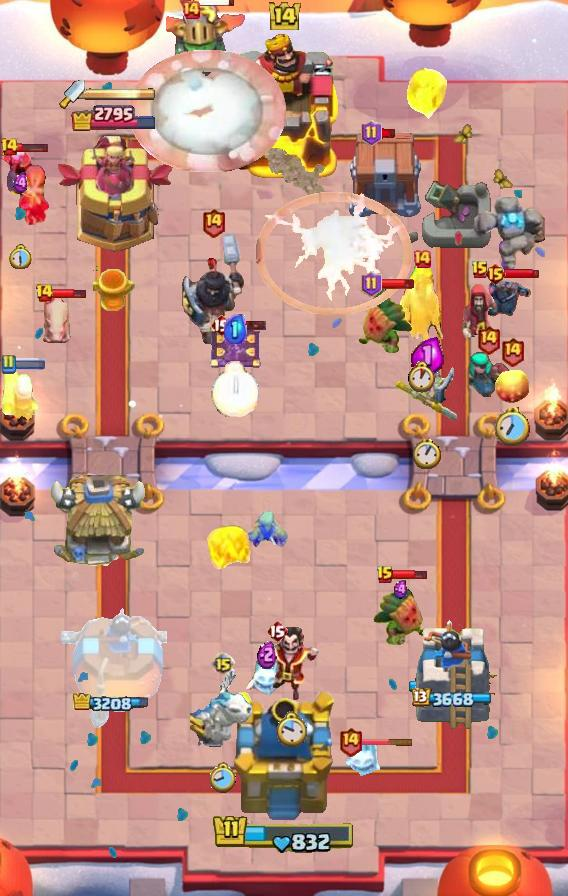bar: (52, 132, 176, 256)
barbarian-evolution: (256, 192, 412, 315)
bat: (245, 655, 289, 701), (343, 739, 387, 779)
battle-ram: (483, 270, 533, 324)
bomb: (346, 133, 424, 219)
bowler: (459, 283, 501, 343)
clock: (212, 813, 356, 855)
electro-spirit: (411, 337, 445, 375), (225, 314, 248, 344), (257, 639, 277, 669), (13, 172, 29, 194), (392, 581, 410, 599)
elixir: (211, 361, 259, 417), (494, 406, 529, 445), (275, 711, 307, 749), (407, 361, 437, 393), (413, 438, 441, 469), (210, 762, 237, 794), (9, 244, 33, 270)
emote: (360, 737, 414, 747), (51, 287, 87, 301), (392, 567, 428, 581), (230, 319, 267, 331), (14, 141, 50, 153), (504, 268, 540, 280), (379, 278, 415, 290), (10, 358, 46, 370), (200, 0, 237, 7), (380, 129, 397, 140)
fisherman: (265, 148, 327, 196)
giant: (38, 294, 72, 350)
goblin-barrel: (356, 288, 414, 358), (372, 578, 430, 648)
goblin-hut: (400, 261, 445, 344)
hog: (495, 366, 529, 404)
ice-spirit-evolution-symbol: (208, 321, 262, 371)
inferno-dragon: (180, 228, 246, 348)
king-tower: (226, 33, 342, 181), (227, 692, 341, 826)
king-tower-bar: (85, 87, 155, 101)
lumberjack: (260, 627, 322, 703)
mini-pekka: (190, 665, 256, 749)
night-witch: (165, 0, 247, 80)
prince: (48, 475, 150, 571)
princess: (394, 350, 460, 422)
queen-tower: (61, 603, 167, 731), (409, 616, 497, 731)
rascal-boy: (0, 143, 50, 229)
selected: (70, 103, 158, 131), (412, 687, 494, 709), (73, 693, 155, 715)
text: (202, 207, 227, 238), (476, 324, 501, 355), (499, 336, 524, 367), (337, 727, 362, 757), (211, 652, 235, 676), (484, 262, 507, 286), (362, 120, 383, 146), (362, 271, 383, 297), (210, 313, 232, 337), (266, 619, 288, 643), (181, 0, 201, 20), (412, 249, 432, 269), (1, 137, 20, 157), (35, 283, 54, 303), (471, 260, 489, 280), (376, 565, 394, 585), (0, 354, 16, 374)
tombstone: (0, 364, 42, 422)
valkyrie: (201, 518, 261, 582), (402, 65, 450, 127)
valkyrie-evolution: (469, 197, 545, 275)
wall-breaker: (128, 50, 286, 172)
witch: (466, 351, 510, 397)
zap: (245, 507, 289, 549)
